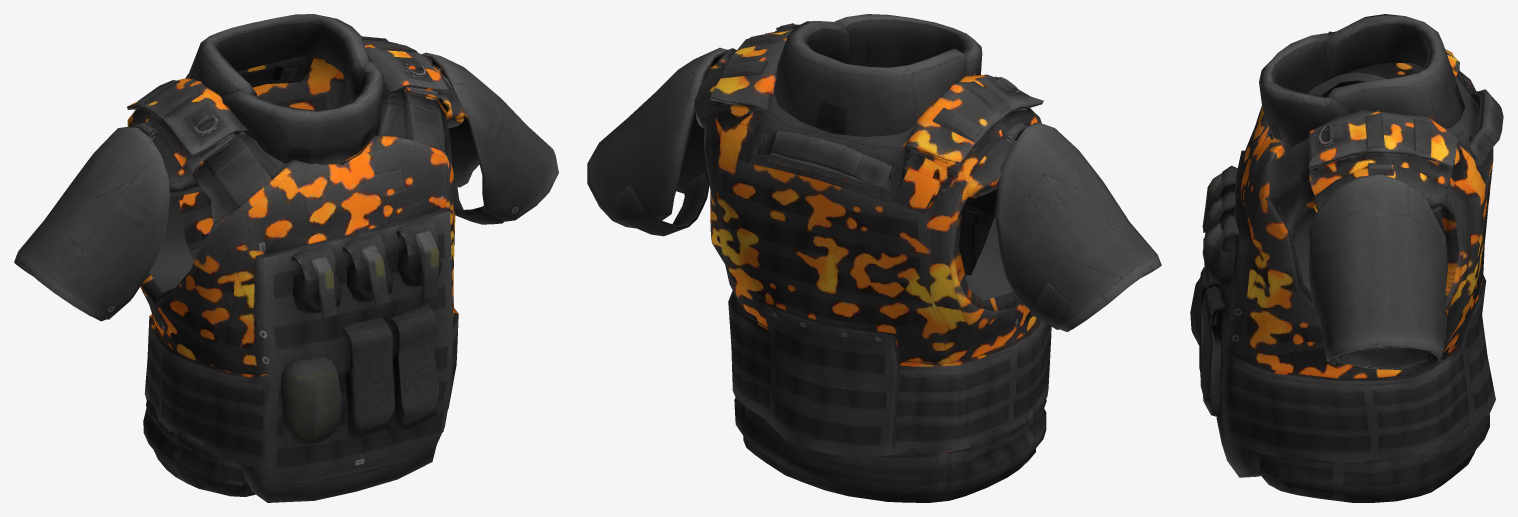
The model's file is vest5.fbx.
3 views of the same model, side by side, from view 1: azimuth 30°, elevation 25°; view 2: azimuth 150°, elevation 25°; view 3: azimuth 270°, elevation 25° (orthographic). The views are drawn at different scales.
Parts seen in each view (by area): view 1: Vest_1_Prem; view 2: Vest_1_Prem; view 3: Vest_1_Prem.
Boxes of the visible parts, x1=… form: Vest_1_Prem: x1=14, y1=14, x2=558, y2=502; Vest_1_Prem: x1=587, y1=14, x2=1161, y2=502; Vest_1_Prem: x1=1190, y1=14, x2=1503, y2=502.
Bounding box in the file's own units: 80.95 × 59.11 × 41.86.
